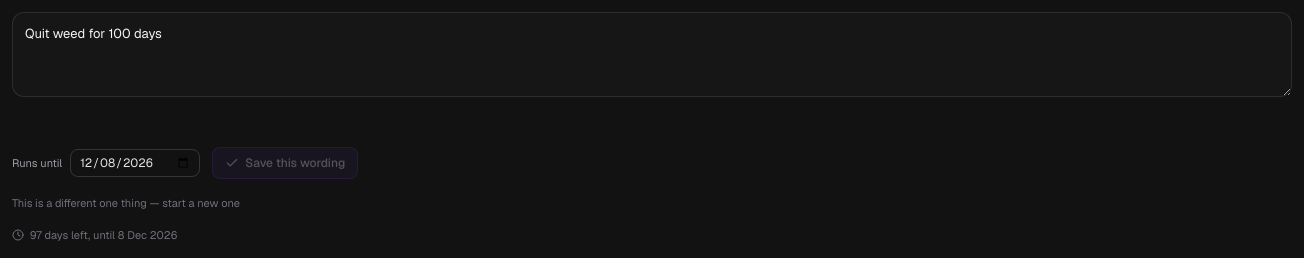
Test case: the deadline is editable on its own › turns the save on when only the date moves, and says that is what it will do
Expected: the button with test id "one-thing-save" is disabled, 212,147 -> 358,179
Type "2026-12-20" into the date field with test id "one-thing-due" at (135, 163), box 70,149 -> 200,177
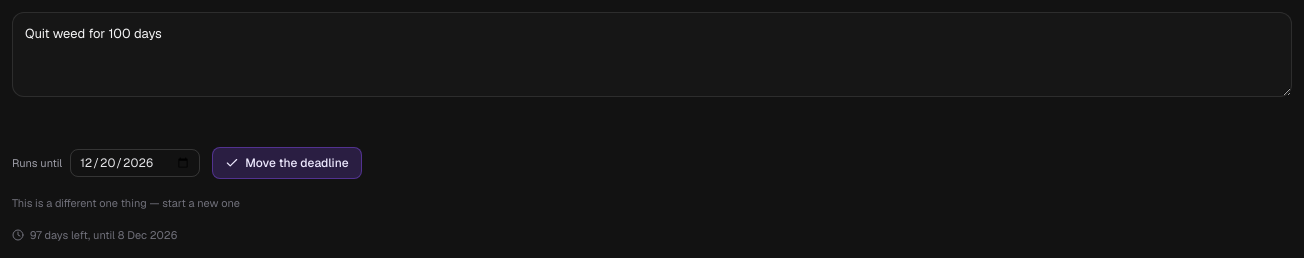
Result: the button with test id "one-thing-save" is enabled at 212,147 -> 362,179
Result: the button with test id "one-thing-save" reads "Move the deadline" at 212,147 -> 362,179
